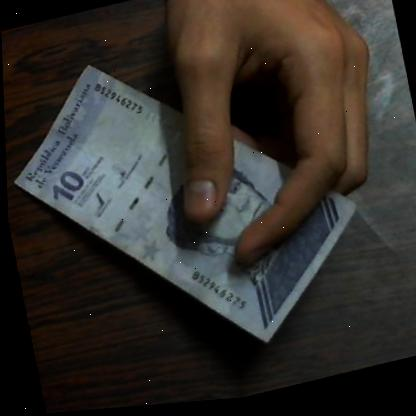ten-front-vef: (1, 7, 382, 396)
